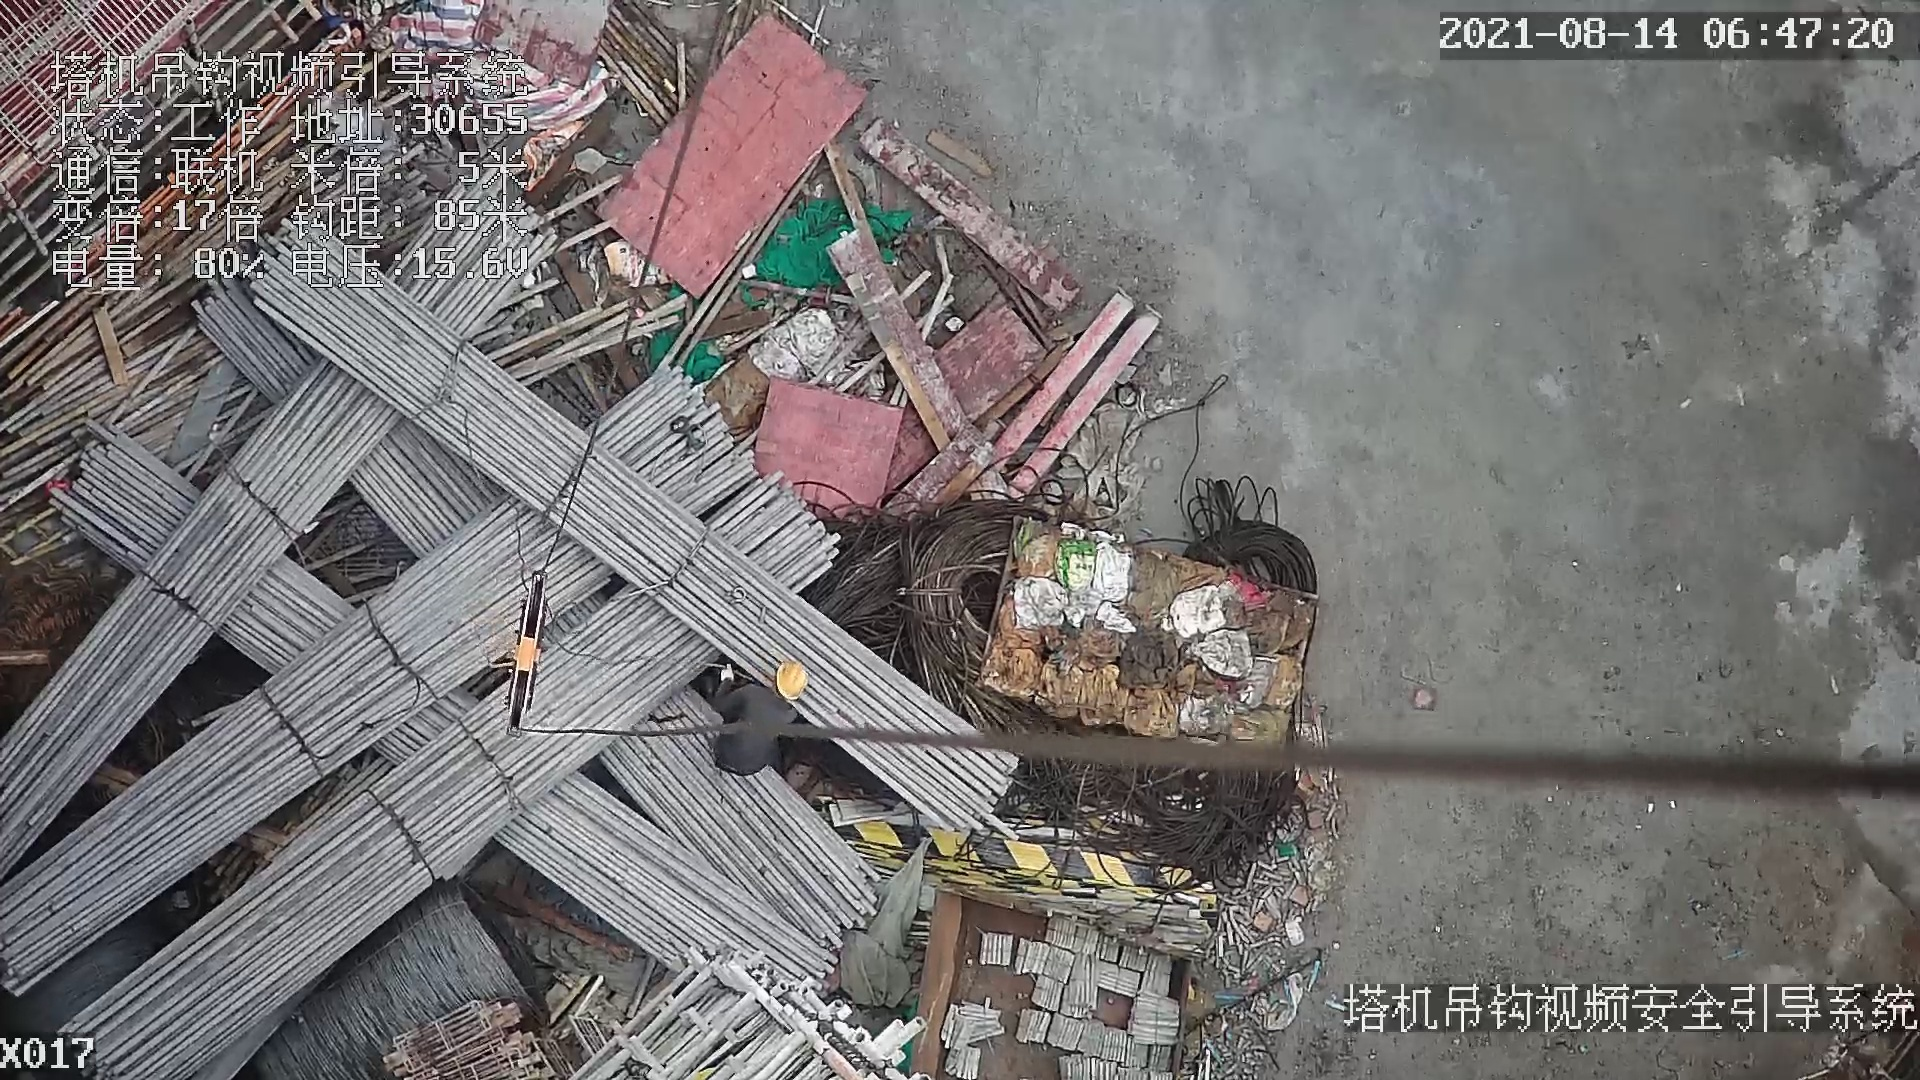board: (593, 8, 866, 295)
helmet: (774, 663, 815, 701)
hook: (485, 556, 567, 753)
person: (710, 659, 808, 782)
